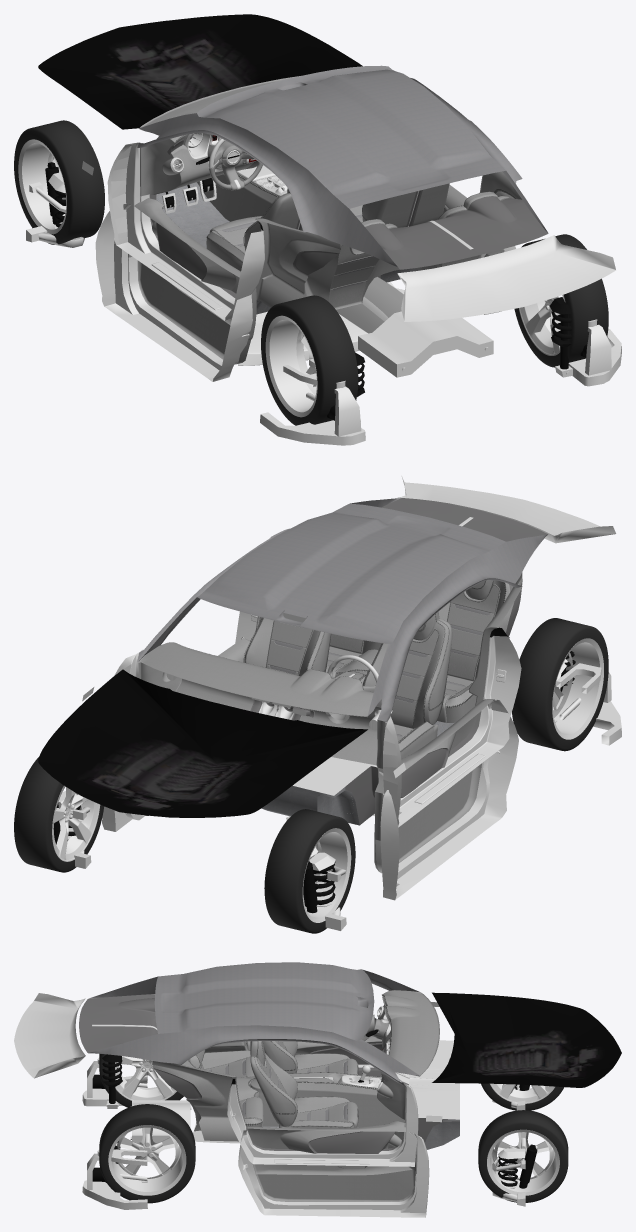
File: MCLA_VP_CHV_CAMARO_06_DUB.glb
3 views of the same model, one above another, from view 1: azimuth 30°, elevation 25°; view 2: azimuth 150°, elevation 25°; view 3: azimuth 270°, elevation 25° (orthographic). The views are drawn at different scales.
Parts seen in each view (by area): view 1: vp_chv_camaro_06_dub/resources/vehicle/vp_chv_camaro_06_dub/ (×9), shared/resources/tires/models/tir_car@axl_2, shared/resources/tires/models/tir_car@axl_0, shared/resources/rims/whl_stk_chv_camaro_06@axl_2, shared/resources/tires/models/tir_car@axl_3, shared/resources/rims/whl_stk_chv_camaro_06@axl_0, shared/resources/rims/whl_stk_chv_camaro_06@axl_3; view 2: vp_chv_camaro_06_dub/resources/vehicle/vp_chv_camaro_06_dub/ (×9), shared/resources/tires/models/tir_car@axl_2, shared/resources/tires/models/tir_car@axl_0, shared/resources/tires/models/tir_car@axl_1, shared/resources/rims/whl_stk_chv_camaro_06@axl_2, shared/resources/rims/whl_stk_chv_camaro_06@axl_1, shared/resources/rims/whl_stk_chv_camaro_06@axl_0; view 3: vp_chv_camaro_06_dub/resources/vehicle/vp_chv_camaro_06_dub/ (×9), shared/resources/tires/models/tir_car@axl_3, shared/resources/rims/whl_stk_chv_camaro_06@axl_3, shared/resources/tires/models/tir_car@axl_1, shared/resources/rims/whl_stk_chv_camaro_06@axl_1, shared/resources/rims/whl_stk_chv_camaro_06@axl_2, shared/resources/rims/whl_stk_chv_camaro_06@axl_0, shared/resources/tires/models/tir_car@axl_0, shared/resources/tires/models/tir_car@axl_2.
Boxes of the visible parts, x1,y1,x2,y2 form: vp_chv_camaro_06_dub/resources/vehicle/vp_chv_camaro_06_dub/ (×9): [26, 14, 621, 445]; shared/resources/tires/models/tir_car@axl_2: [261, 295, 358, 425]; shared/resources/tires/models/tir_car@axl_0: [14, 120, 104, 244]; shared/resources/rims/whl_stk_chv_camaro_06@axl_2: [265, 315, 317, 417]; shared/resources/tires/models/tir_car@axl_3: [514, 234, 608, 367]; shared/resources/rims/whl_stk_chv_camaro_06@axl_0: [18, 139, 66, 234]; shared/resources/rims/whl_stk_chv_camaro_06@axl_3: [518, 294, 565, 355]; vp_chv_camaro_06_dub/resources/vehicle/vp_chv_camaro_06_dub/ (×9): [38, 476, 621, 930]; shared/resources/tires/models/tir_car@axl_2: [512, 618, 608, 751]; shared/resources/tires/models/tir_car@axl_0: [264, 809, 355, 933]; shared/resources/tires/models/tir_car@axl_1: [14, 757, 104, 872]; shared/resources/rims/whl_stk_chv_camaro_06@axl_2: [552, 638, 603, 739]; shared/resources/rims/whl_stk_chv_camaro_06@axl_1: [52, 785, 100, 861]; shared/resources/rims/whl_stk_chv_camaro_06@axl_0: [302, 828, 351, 922]; vp_chv_camaro_06_dub/resources/vehicle/vp_chv_camaro_06_dub/ (×9): [14, 962, 621, 1217]; shared/resources/tires/models/tir_car@axl_3: [99, 1104, 195, 1203]; shared/resources/rims/whl_stk_chv_camaro_06@axl_3: [108, 1125, 186, 1195]; shared/resources/tires/models/tir_car@axl_1: [478, 1110, 568, 1202]; shared/resources/rims/whl_stk_chv_camaro_06@axl_1: [487, 1129, 559, 1195]; shared/resources/rims/whl_stk_chv_camaro_06@axl_2: [115, 1056, 176, 1100]; shared/resources/rims/whl_stk_chv_camaro_06@axl_0: [490, 1083, 554, 1103]; shared/resources/tires/models/tir_car@axl_0: [481, 1083, 564, 1110]; shared/resources/tires/models/tir_car@axl_2: [99, 1053, 183, 1107].
Bounding box in the file's own units: 2.26 × 1.42 × 4.51.
Materials: 79 (49 with a texture image).
